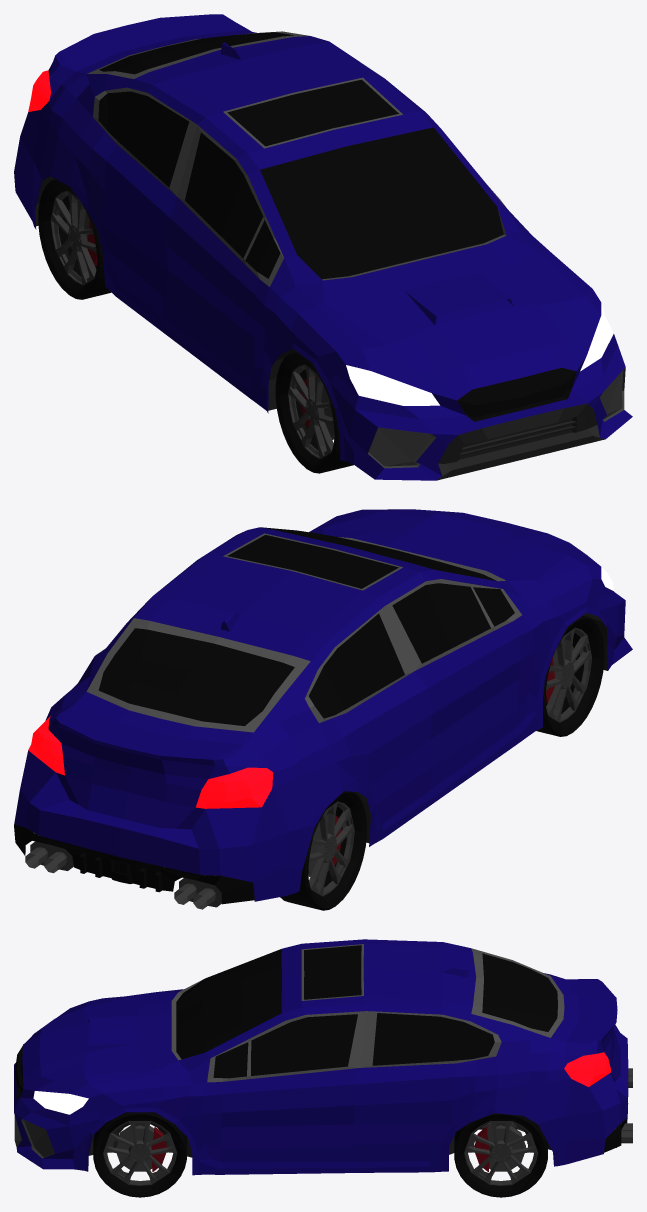
Rendered from wrx.glb.
The picture shows the model from 3 angles, top to bottom: view 1: azimuth 30°, elevation 25°; view 2: azimuth 150°, elevation 25°; view 3: azimuth 270°, elevation 25°; orthographic projection. The views are drawn at different scales.
Parts seen in each view (by area): view 1: body, wheels; view 2: body, wheels; view 3: body, wheels.
Part boxes in pixels (left/top/right/bottom): body: left=14, top=14, right=632, bottom=480; wheels: left=38, top=179, right=353, bottom=473; body: left=14, top=509, right=632, bottom=909; wheels: left=280, top=615, right=604, bottom=910; body: left=14, top=939, right=632, bottom=1175; wheels: left=93, top=1112, right=547, bottom=1197.
Bounding box in the file's own units: 1.21 × 0.9974 × 3.1.
